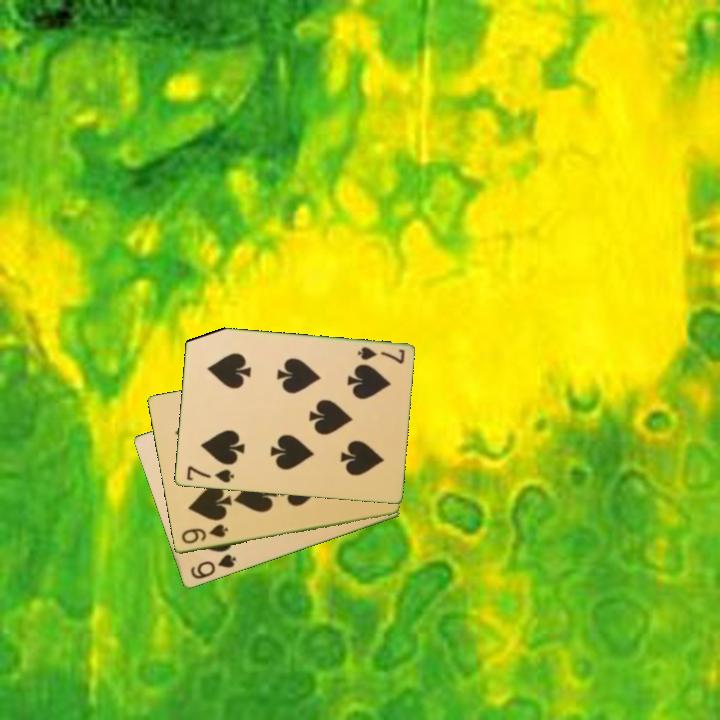6s: (187, 551, 239, 582)
7s: (183, 462, 236, 486), (354, 343, 407, 367)
9s: (178, 521, 231, 547)
